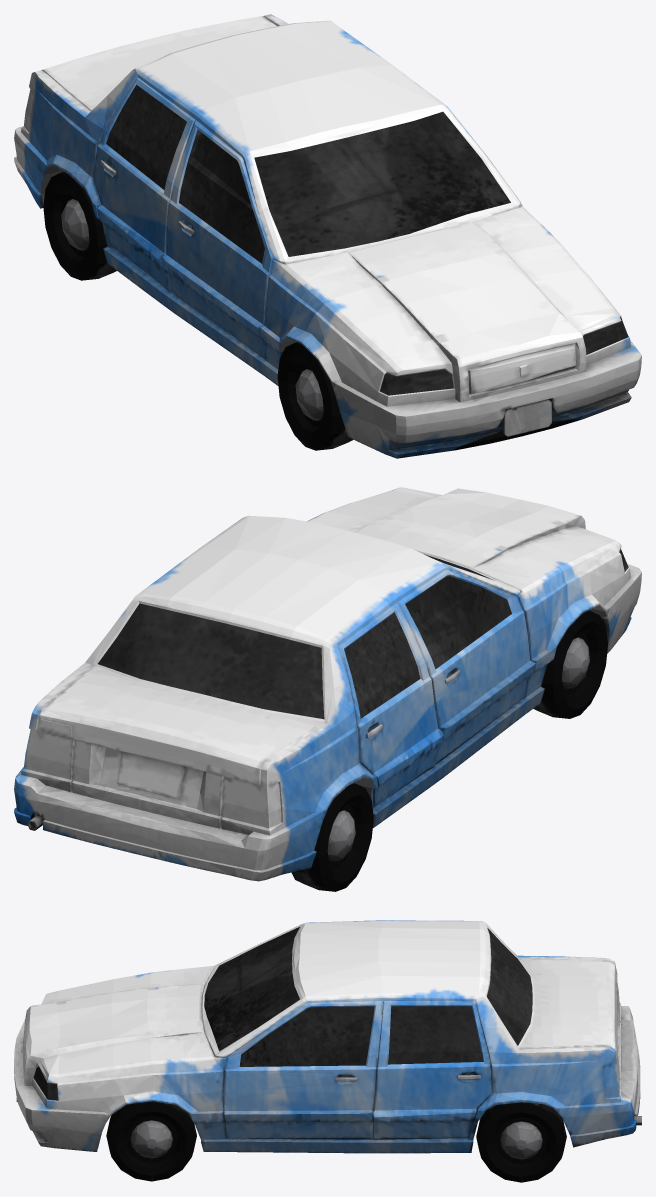
File: StationWagon_Sedan_01.fbx
3 renders of one model, top to bottom at view 1: azimuth 30°, elevation 25°; view 2: azimuth 150°, elevation 25°; view 3: azimuth 270°, elevation 25°, orthographic. The views are drawn at different scales.
Parts seen in each view (by area): view 1: SM_StationWagon_Sedan_01.mo; view 2: SM_StationWagon_Sedan_01.mo; view 3: SM_StationWagon_Sedan_01.mo.
Boxes of the visible parts, box(x1,y1,x2,y2) form: SM_StationWagon_Sedan_01.mo: box(14, 14, 641, 458); SM_StationWagon_Sedan_01.mo: box(14, 487, 641, 891); SM_StationWagon_Sedan_01.mo: box(14, 920, 641, 1182).
Size of the model in its own units: 207 by 160 by 499.
